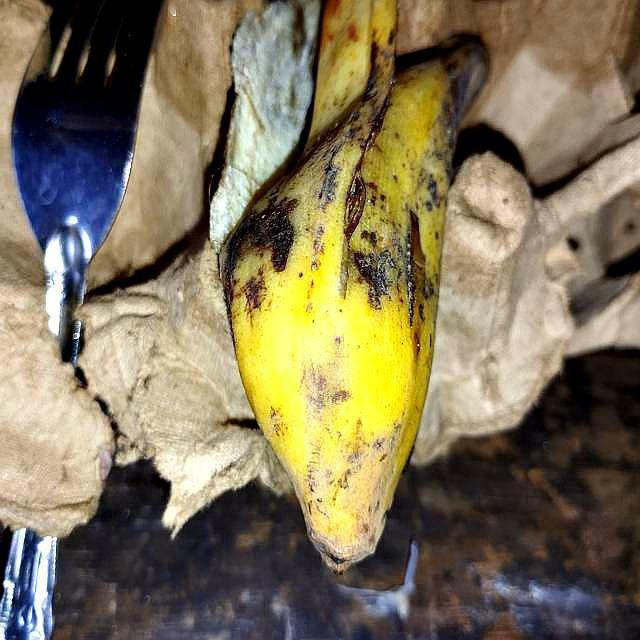Biodegradable: (225, 1, 479, 575)
